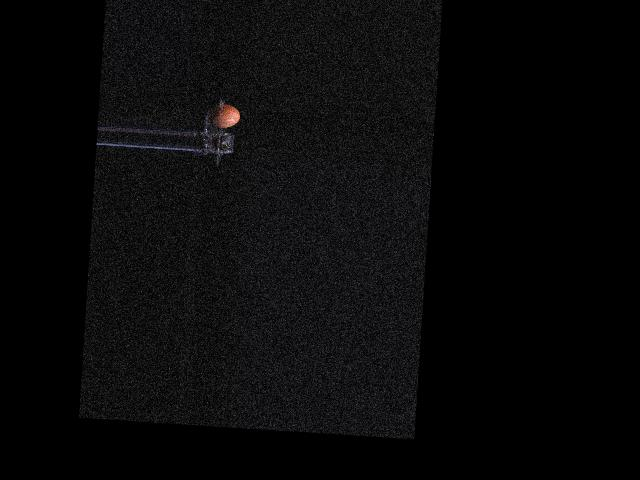egg: (207, 102, 240, 128)
